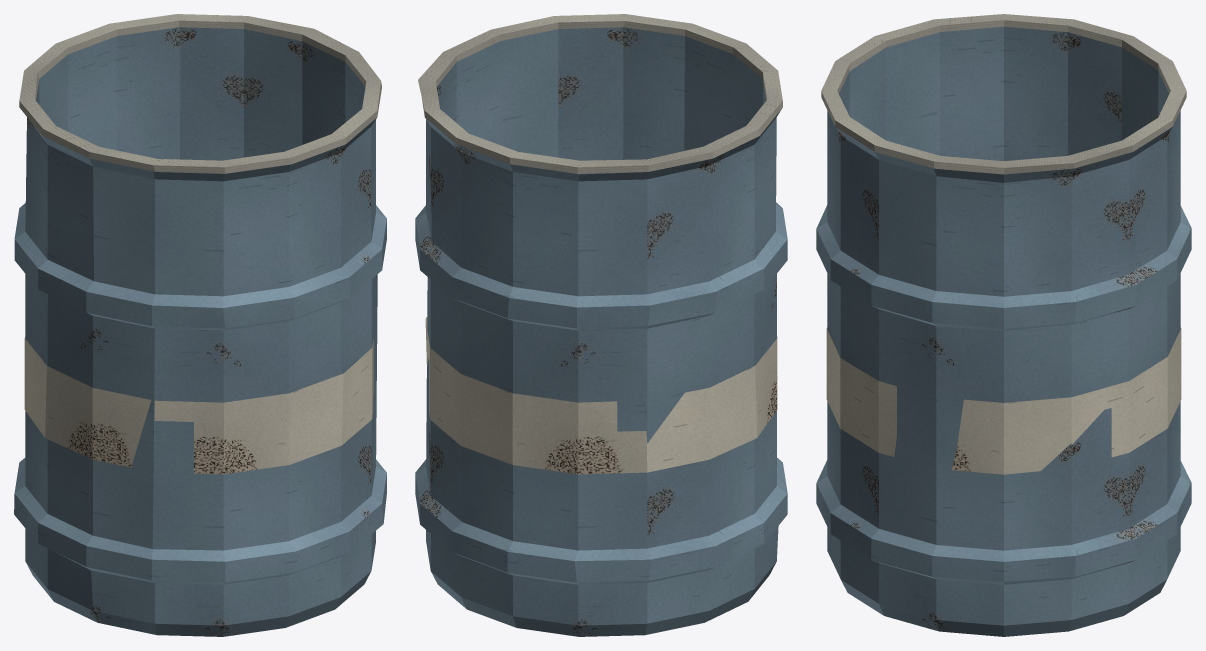
File: barrel3_v2.glb
The picture shows the model from 3 angles, left to right: view 1: azimuth 30°, elevation 25°; view 2: azimuth 150°, elevation 25°; view 3: azimuth 270°, elevation 25°; orthographic projection.
Visible parts, largest first — view 1: Variant_barrel3_2; view 2: Variant_barrel3_2; view 3: Variant_barrel3_2.
Part boxes in pixels (x1,y1,x2,y2): Variant_barrel3_2: (14,14,386,636); Variant_barrel3_2: (415,14,787,636); Variant_barrel3_2: (816,14,1191,636).
Size of the model in its own units: 0.616 by 0.86 by 0.616.
Materials: 4 (4 with a texture image).
